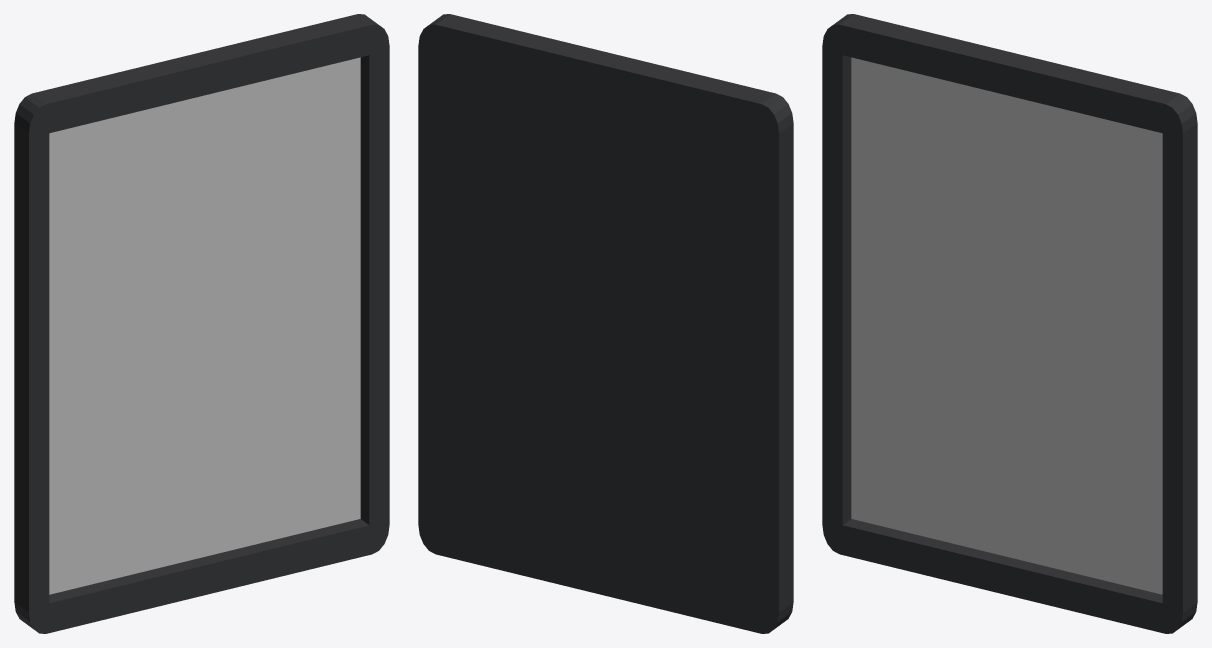
The model's file is BildAssetCinemaAvengers.fbx.
3 views of the same model, side by side, from view 1: azimuth 30°, elevation 25°; view 2: azimuth 150°, elevation 25°; view 3: azimuth 330°, elevation 25° (orthographic).
Visible parts, largest first — view 1: Cube.001, Cube; view 2: Cube; view 3: Cube.001, Cube.
Part boxes in pixels (bbox=[...]): Cube.001: bbox=[49, 57, 360, 594]; Cube: bbox=[14, 14, 389, 633]; Cube: bbox=[418, 14, 793, 633]; Cube.001: bbox=[851, 57, 1162, 594]; Cube: bbox=[822, 14, 1197, 633].
Bounding box in the file's own units: 143 × 200 × 9.95.
